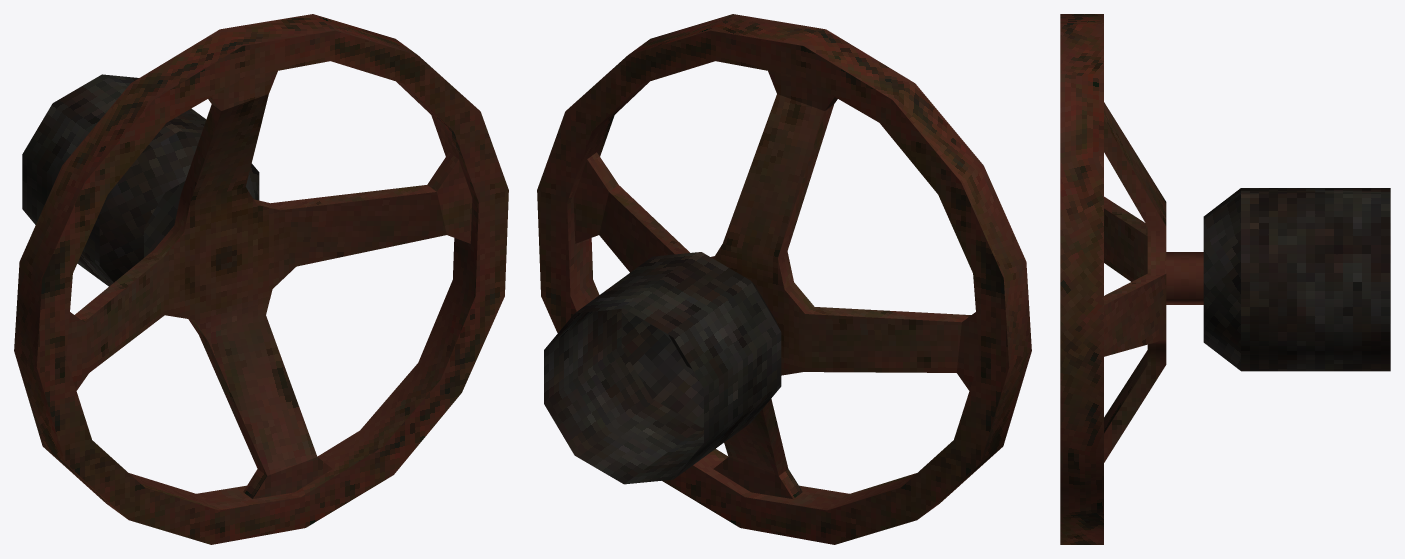
File: pipe_valve_holder_large_1.glb
3 renders of one model, left to right at view 1: azimuth 30°, elevation 25°; view 2: azimuth 150°, elevation 25°; view 3: azimuth 270°, elevation 25°, orthographic. The views are drawn at different scales.
Parts seen in each view (by area): view 1: valve_1, pipe_valve_holder_large_1; view 2: valve_1, pipe_valve_holder_large_1; view 3: valve_1, pipe_valve_holder_large_1.
Boxes of the visible parts, x1=… form: valve_1: x1=14, y1=14, x2=508, y2=544; pipe_valve_holder_large_1: x1=22, y1=74, x2=259, y2=286; valve_1: x1=537, y1=14, x2=1031, y2=544; pipe_valve_holder_large_1: x1=544, y1=252, x2=781, y2=484; valve_1: x1=1060, y1=14, x2=1203, y2=544; pipe_valve_holder_large_1: x1=1203, y1=188, x2=1390, y2=371.
Size of the model in its own units: 0.2811 by 0.2831 by 0.1767.
2 materials, 2 textured.
